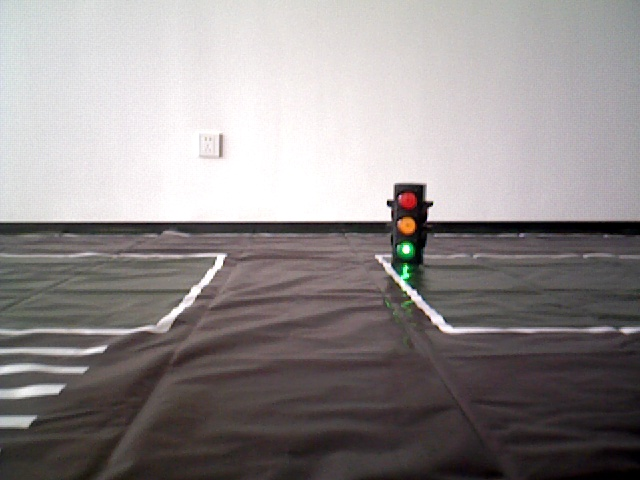green: (394, 183, 419, 258)
